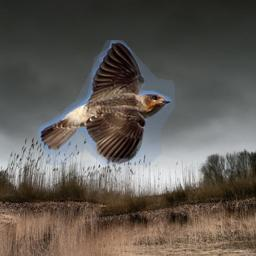Swallow: (38, 40, 175, 165)
